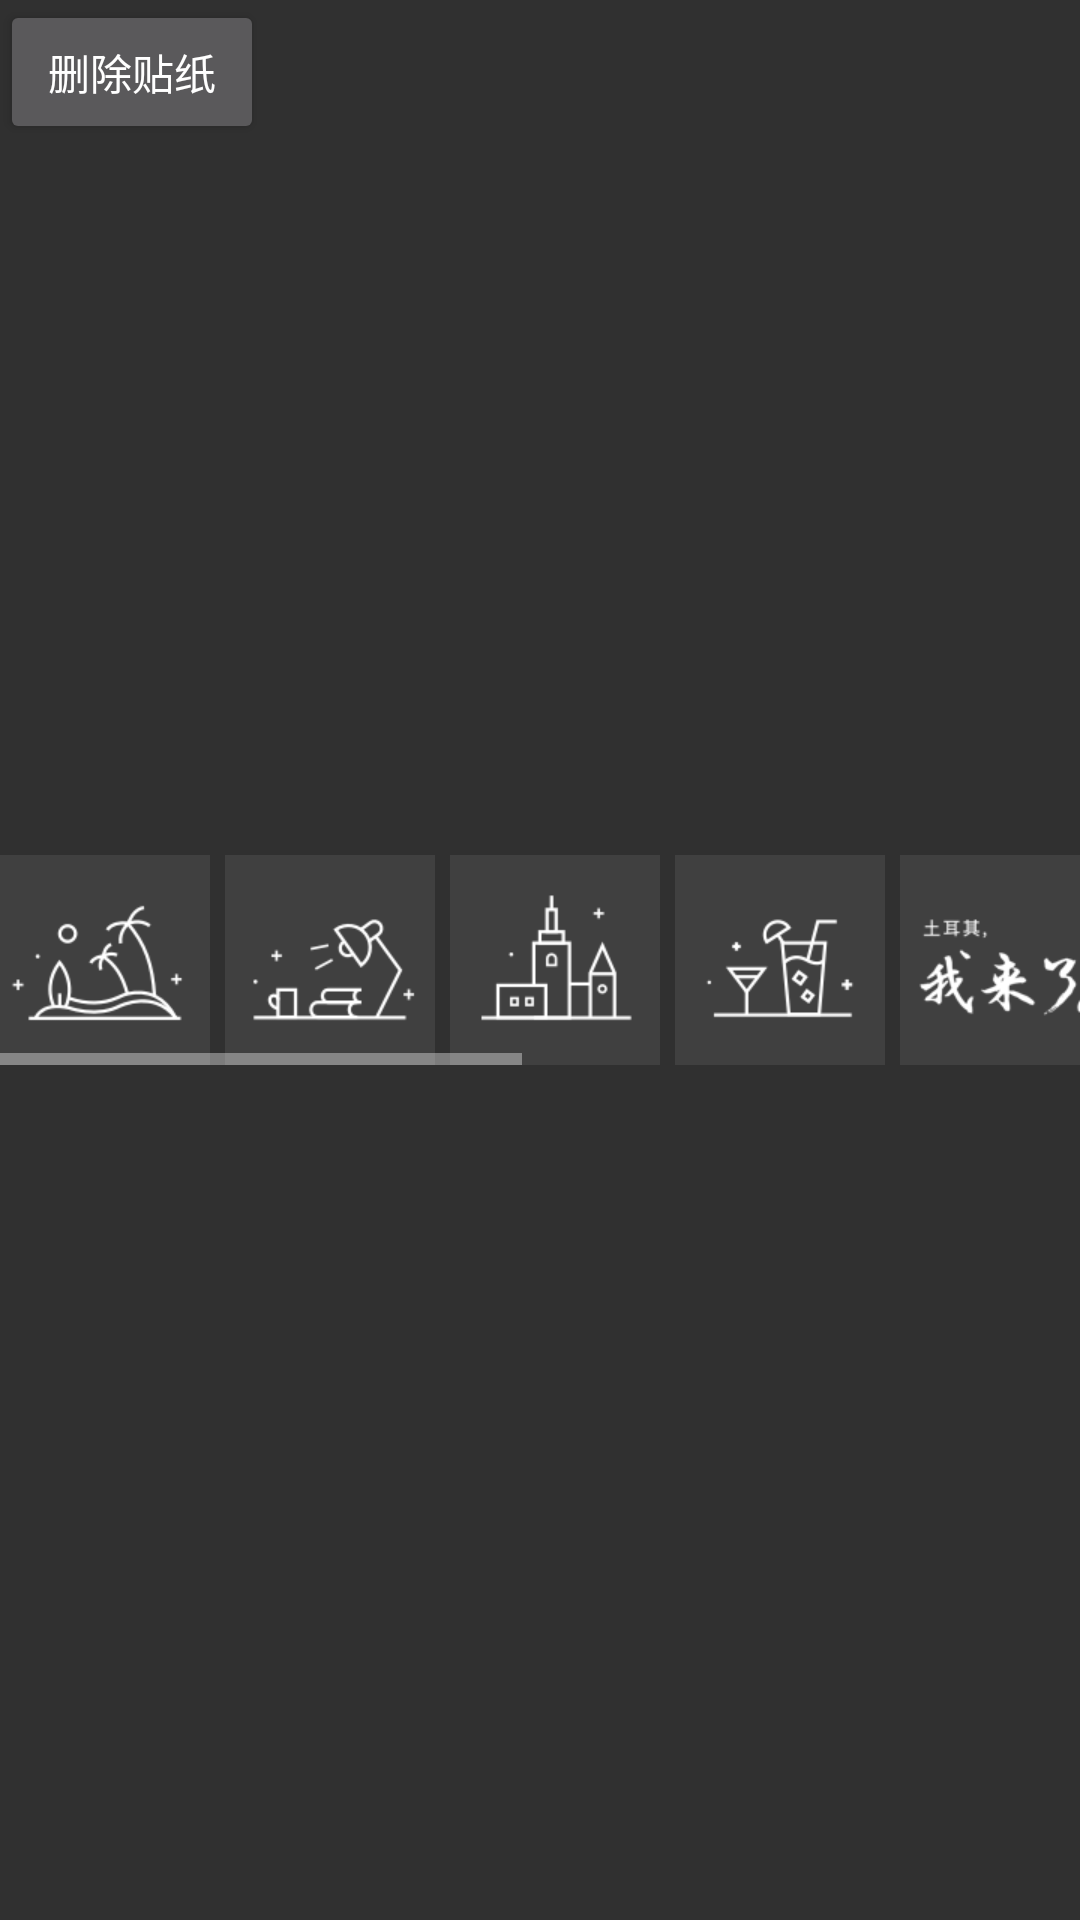

Icons on this 1080x1920 Android screen, each with its box as [x1,y1,x2,y2]:
sticker beach: [0,855,210,1065]
sticker book: [225,855,435,1065]
sticker city: [450,855,660,1065]
sticker drink: [675,855,885,1065]
